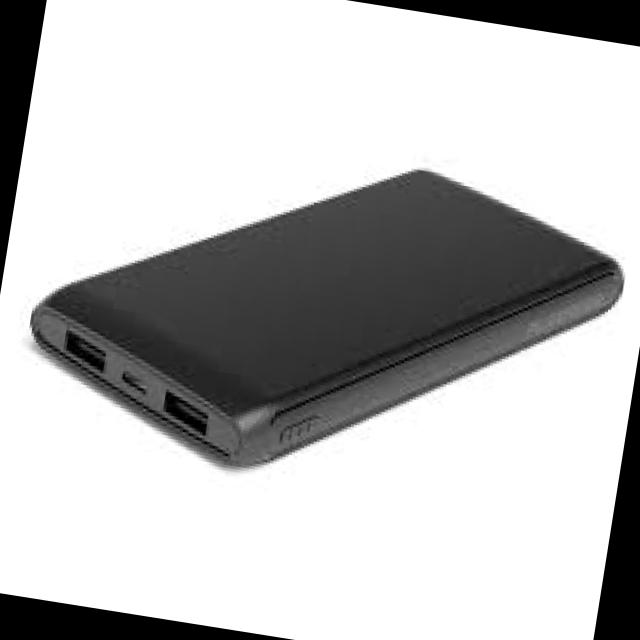power_bank: (3, 104, 640, 529)
